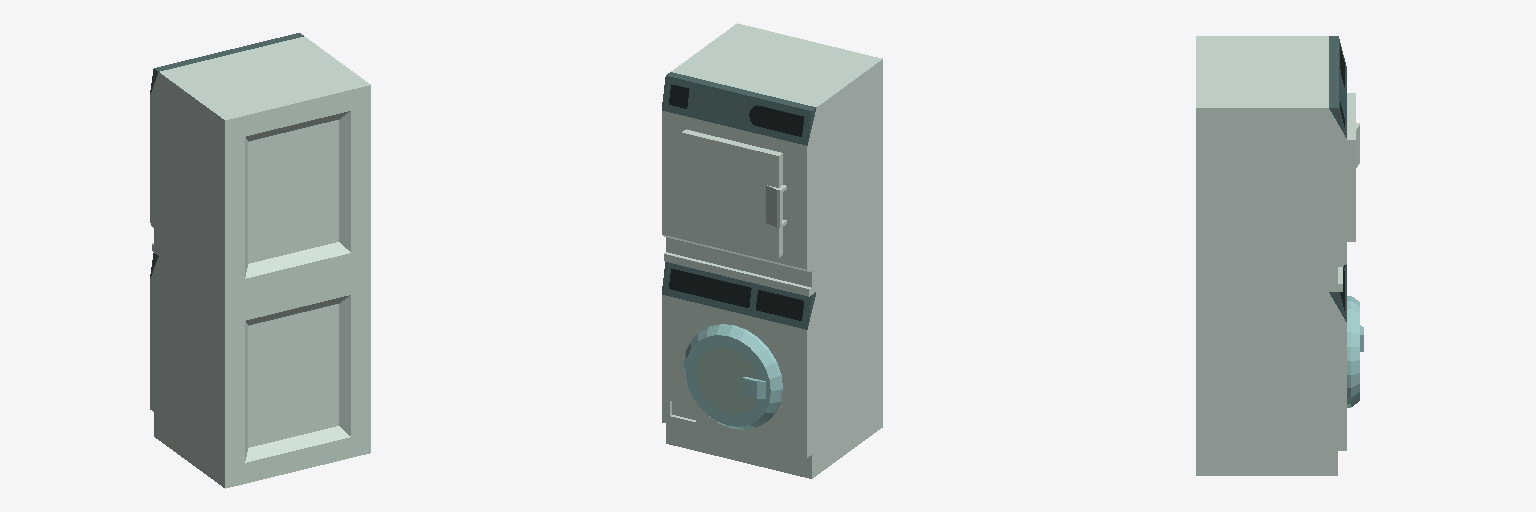
Rendered from washerDryerStacked.obj.
3 views of the same model, side by side, from view 1: azimuth 30°, elevation 25°; view 2: azimuth 150°, elevation 25°; view 3: azimuth 270°, elevation 25° (orthographic).
Visible parts, largest first — view 1: washerDryerStacked; view 2: washerDryerStacked, dryerDoor 1, washerDoor 1; view 3: washerDryerStacked, dryerDoor 1, washerDoor 1.
Boxes of the visible parts, x1=… form: washerDryerStacked: x1=150, y1=33, x2=370, y2=488; washerDryerStacked: x1=662, y1=23, x2=882, y2=478; dryerDoor 1: x1=682, y1=129, x2=786, y2=257; washerDoor 1: x1=684, y1=324, x2=782, y2=429; washerDryerStacked: x1=1196, y1=36, x2=1346, y2=475; dryerDoor 1: x1=1347, y1=93, x2=1359, y2=241; washerDoor 1: x1=1347, y1=296, x2=1363, y2=407.
Bounding box in the file's own units: 3.9 × 9.4 × 3.9.